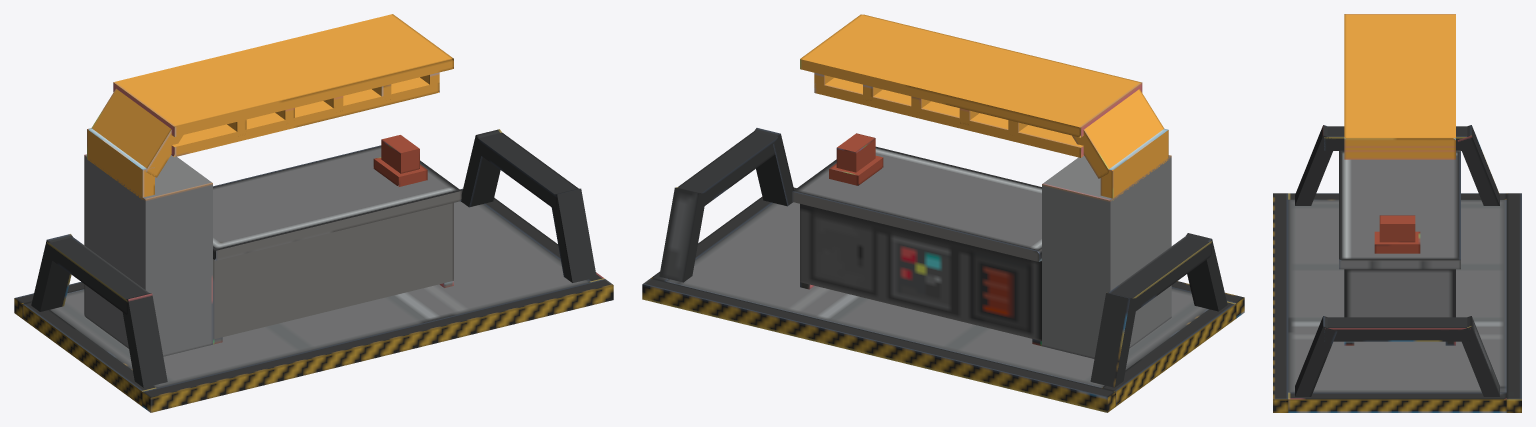
Rendered from craft_bench.obj.
3 renders of one model, left to right at view 1: azimuth 30°, elevation 25°; view 2: azimuth 150°, elevation 25°; view 3: azimuth 270°, elevation 25°, orthographic. The views are drawn at different scales.
Parts seen in each view (by area): view 1: plank, hang11, body1, hang1, top, cube2, hang5, hang3, cube3, h1cube3, h2cube3, h2cube2 (+7 smaller); view 2: hang11, plank, body1, hang1, top, cube1, hang5, hang3, cube3, h1cube3, h1cube1, h2cube1 (+7 smaller); view 3: plank, hang11, top, body1, cube4, cube1, cube2, h2cube3, h1cube1, h2cube1, h2cube2, h1cube2 (+6 smaller).
Boxes of the visible parts, x1,y1,x2,y2 form: plank: [50, 201, 590, 387]; hang11: [113, 14, 453, 136]; body1: [213, 203, 453, 339]; hang1: [84, 154, 212, 356]; top: [213, 145, 461, 260]; cube2: [142, 279, 613, 412]; hang5: [171, 77, 439, 157]; hang3: [91, 88, 183, 177]; cube3: [22, 302, 156, 406]; h1cube3: [47, 237, 149, 314]; h2cube3: [478, 132, 578, 209]; h2cube2: [551, 188, 596, 282]; hang11: [800, 14, 1142, 137]; plank: [666, 202, 1208, 387]; body1: [800, 204, 1041, 340]; hang1: [1042, 155, 1171, 358]; top: [792, 146, 1041, 261]; cube1: [642, 278, 1115, 412]; hang5: [814, 77, 1083, 157]; hang3: [1072, 89, 1164, 178]; cube3: [1102, 301, 1236, 406]; h1cube3: [1109, 236, 1211, 313]; h1cube1: [1090, 292, 1137, 387]; h2cube1: [659, 187, 706, 282]; plank: [1288, 199, 1506, 392]; hang11: [1344, 14, 1455, 147]; top: [1339, 150, 1460, 269]; body1: [1344, 269, 1455, 317]; cube4: [1288, 392, 1506, 412]; cube1: [1506, 193, 1521, 412]; cube2: [1273, 193, 1288, 412]; h2cube3: [1324, 317, 1470, 341]; h1cube1: [1457, 125, 1499, 205]; h2cube1: [1457, 316, 1499, 396]; h2cube2: [1295, 316, 1337, 396]; h1cube2: [1295, 125, 1336, 205].
Bounding box in the file's own units: 6 × 3 × 3.06.
